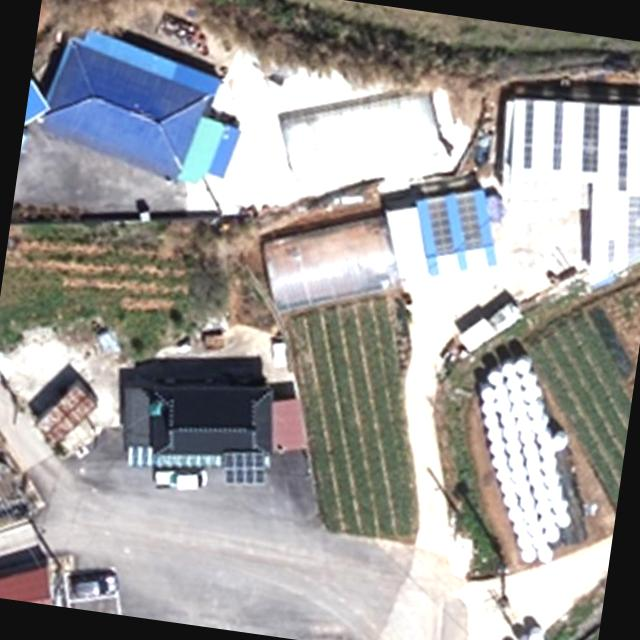solar: (217, 446, 268, 491)
